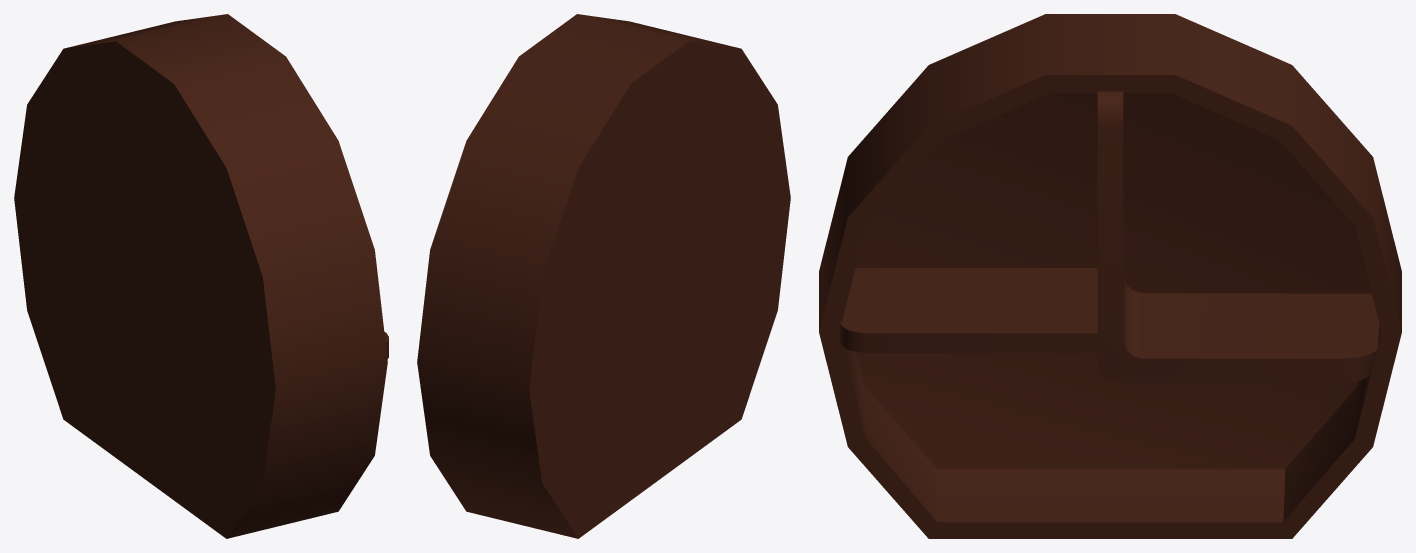
Rendered from ComplexShelf.obj.
3 views of the same model, side by side, from view 1: azimuth 30°, elevation 25°; view 2: azimuth 150°, elevation 25°; view 3: azimuth 270°, elevation 25° (orthographic). The views are drawn at different scales.
Parts seen in each view (by area): view 1: Cylinder_Cylinder.001; view 2: Cylinder_Cylinder.001; view 3: Cylinder_Cylinder.001.
Part boxes in pixels (box(x1,y1,x2,y2)): Cylinder_Cylinder.001: box(14, 14, 388, 538); Cylinder_Cylinder.001: box(417, 14, 790, 538); Cylinder_Cylinder.001: box(819, 14, 1401, 538).
Bounding box in the file's own units: 0.2908 × 0.8784 × 1.
